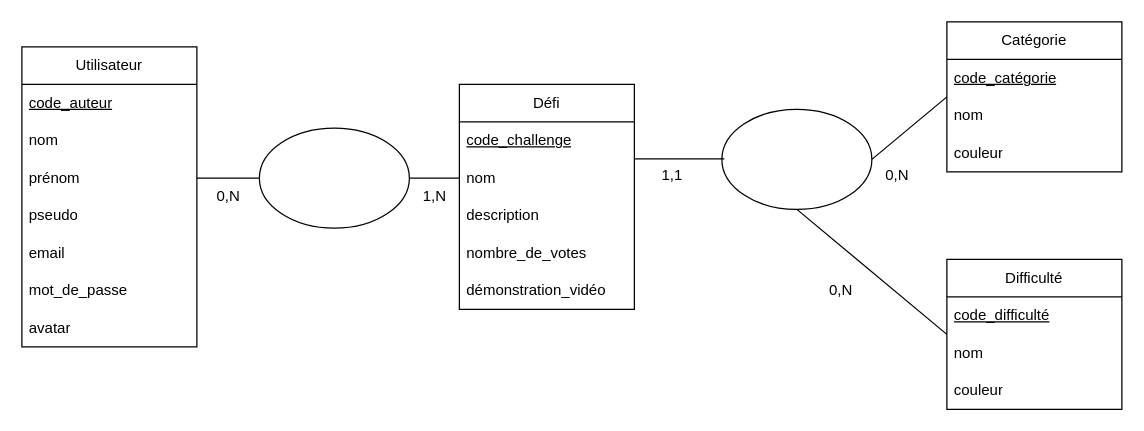
The diagram is 1144 pixels wide and 431 high, and some of its shapes have lost their labels. Each missing label, with the centre of its shape:
"ASSOCIER" goes at point (333, 177).
"ETRE ASSIGNÉ À" goes at point (796, 158).
